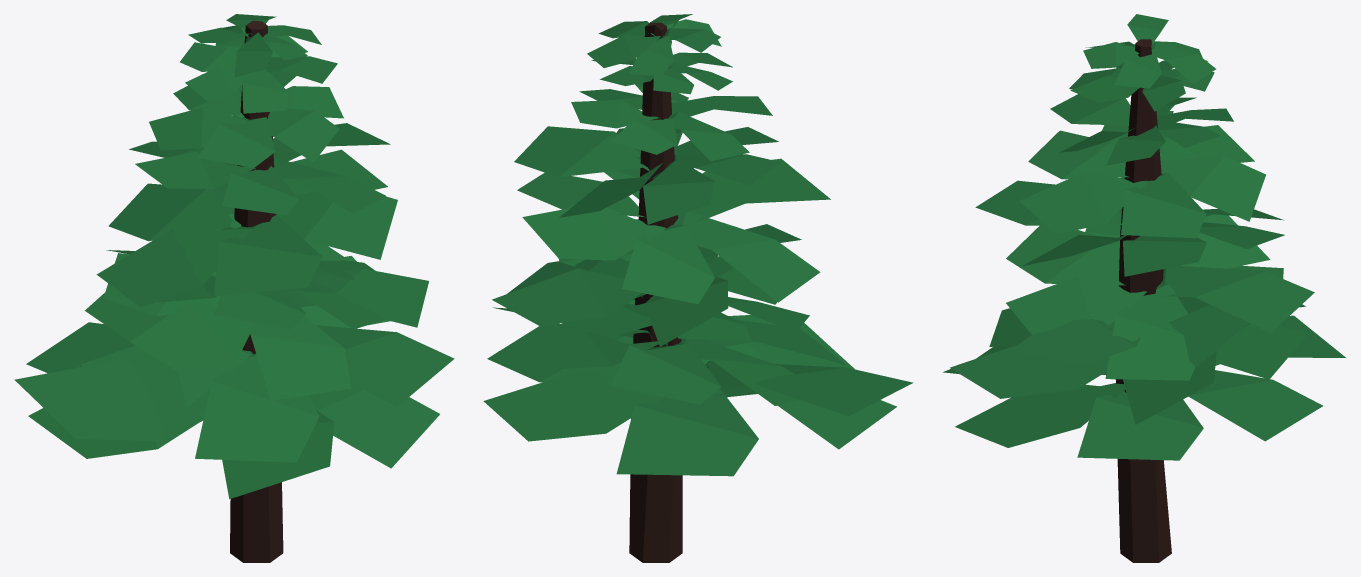
File: arbol3.glb
3 views of the same model, side by side, from view 1: azimuth 30°, elevation 25°; view 2: azimuth 150°, elevation 25°; view 3: azimuth 270°, elevation 25° (orthographic). The views are drawn at different scales.
Visible parts, largest first — view 1: Cylinder.007, Cylinder.008, Cylinder.026, Cylinder.020, Cylinder.031, Cylinder.013, Cylinder.005, Cylinder.021, Cylinder, Cylinder.030, Cylinder.027, Cylinder.025 (+30 smaller); view 2: Cylinder.002, Cylinder.003, Cylinder, Cylinder.026, Cylinder.019, Cylinder.007, Cylinder.027, Cylinder.028, Cylinder.010, Cylinder.037, Cylinder.011, Cylinder.031 (+30 smaller); view 3: Cylinder, Cylinder.004, Cylinder.014, Cylinder.019, Cylinder.005, Cylinder.003, Cylinder.013, Cylinder.015, Cylinder.032, Cylinder.036, Cylinder.037, Cylinder.016 (+25 smaller).
Boxes of the visible parts, left/top/right/bottom form: Cylinder.007: left=14, top=359, right=209, bottom=441; Cylinder.008: left=195, top=353, right=319, bottom=462; Cylinder.026: left=96, top=226, right=252, bottom=307; Cylinder.020: left=249, top=316, right=351, bottom=400; Cylinder.031: left=214, top=215, right=322, bottom=295; Cylinder.013: left=316, top=325, right=454, bottom=406; Cylinder.005: left=308, top=384, right=439, bottom=468; Cylinder.021: left=130, top=303, right=255, bottom=377; Cylinder: left=230, top=20, right=283, bottom=562; Cylinder.030: left=276, top=191, right=397, bottom=259; Cylinder.027: left=108, top=183, right=241, bottom=241; Cylinder.025: left=287, top=268, right=428, bottom=327; Cylinder.002: left=616, top=389, right=758, bottom=476; Cylinder.003: left=483, top=369, right=663, bottom=441; Cylinder: left=629, top=22, right=682, bottom=562; Cylinder.026: left=673, top=211, right=820, bottom=302; Cylinder.019: left=492, top=268, right=641, bottom=326; Cylinder.007: left=705, top=360, right=913, bottom=416; Cylinder.027: left=622, top=225, right=714, bottom=304; Cylinder.028: left=522, top=207, right=666, bottom=260; Cylinder.010: left=610, top=343, right=720, bottom=404; Cylinder.037: left=514, top=126, right=649, bottom=177; Cylinder.011: left=498, top=331, right=667, bottom=369; Cylinder.031: left=678, top=158, right=830, bottom=222; Cylinder: left=1116, top=39, right=1171, bottom=562; Cylinder.004: left=1077, top=391, right=1203, bottom=460; Cylinder.014: left=1105, top=283, right=1195, bottom=380; Cylinder.019: left=1160, top=265, right=1314, bottom=332; Cylinder.005: left=955, top=383, right=1125, bottom=447; Cylinder.003: left=1188, top=370, right=1322, bottom=441; Cylinder.013: left=950, top=345, right=1108, bottom=398; Cylinder.015: left=1006, top=276, right=1146, bottom=334; Cylinder.032: left=1019, top=172, right=1147, bottom=234; Cylinder.036: left=1160, top=156, right=1265, bottom=221; Cylinder.037: left=1121, top=173, right=1206, bottom=238; Cylinder.016: left=1006, top=225, right=1125, bottom=285.
Size of the model in its own units: 7.07 by 9.66 by 6.89.
